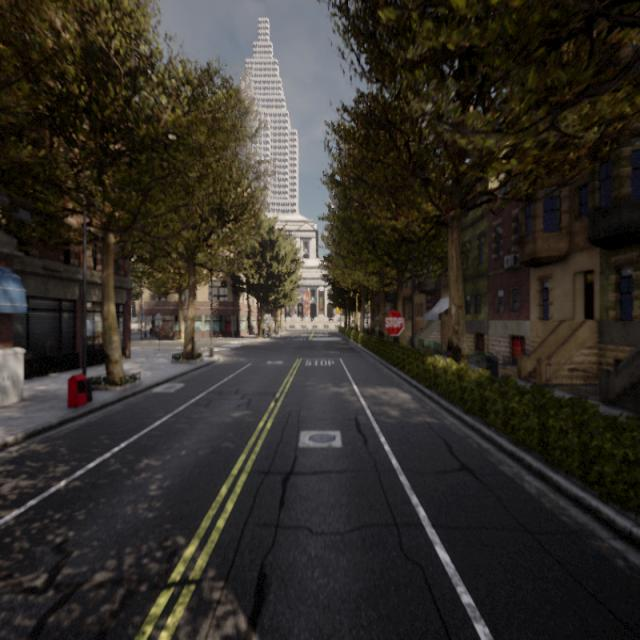stop sign: (382, 306, 406, 338)
